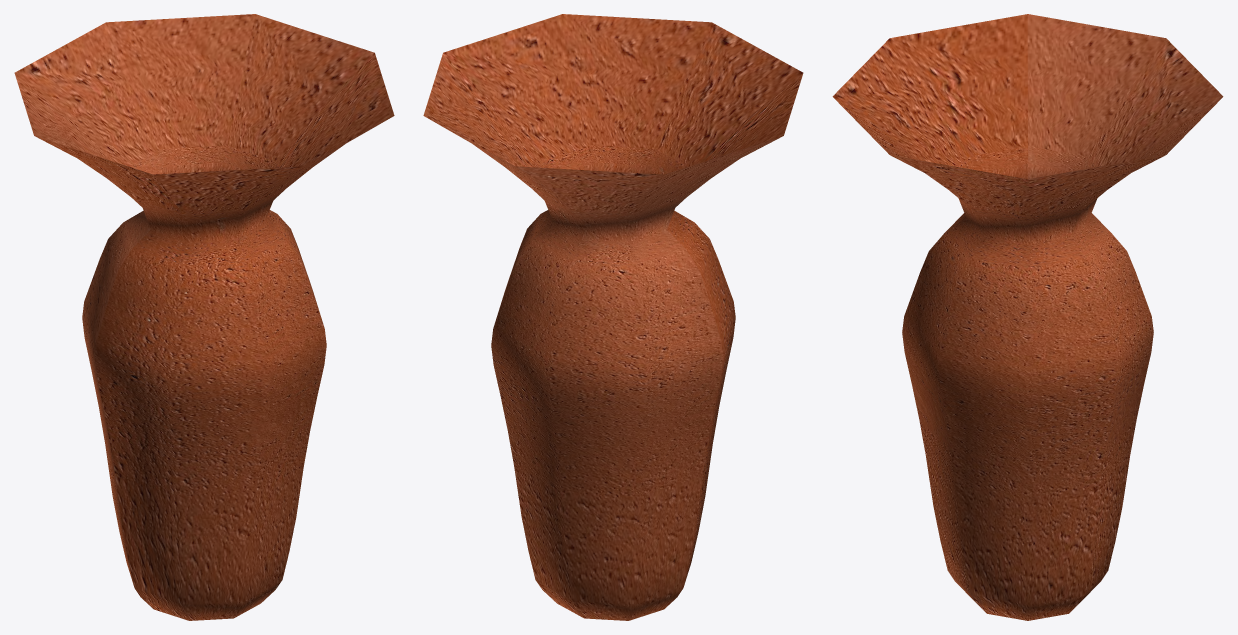
Rendered from Pottery2.fbx.
3 views of the same model, side by side, from view 1: azimuth 30°, elevation 25°; view 2: azimuth 150°, elevation 25°; view 3: azimuth 270°, elevation 25° (orthographic).
Parts seen in each view (by area): view 1: Cylinder.002; view 2: Cylinder.002; view 3: Cylinder.002.
Part boxes in pixels (<box>): Cylinder.002: <box>14,14,394,620</box>; Cylinder.002: <box>423,14,803,620</box>; Cylinder.002: <box>832,14,1223,620</box>.
Bounding box in the file's own units: 136 × 191 × 136.
